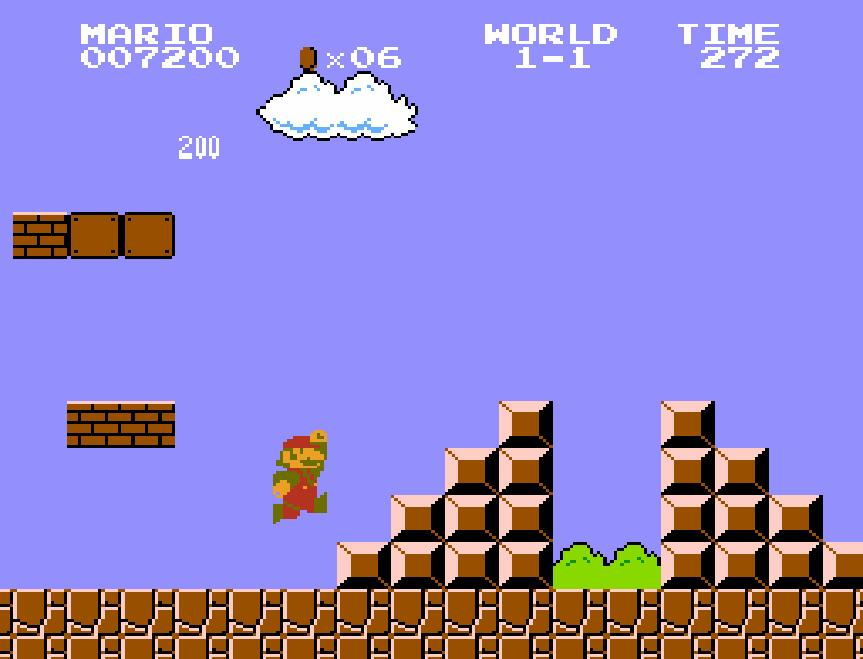big_mario: (270, 428, 328, 526)
